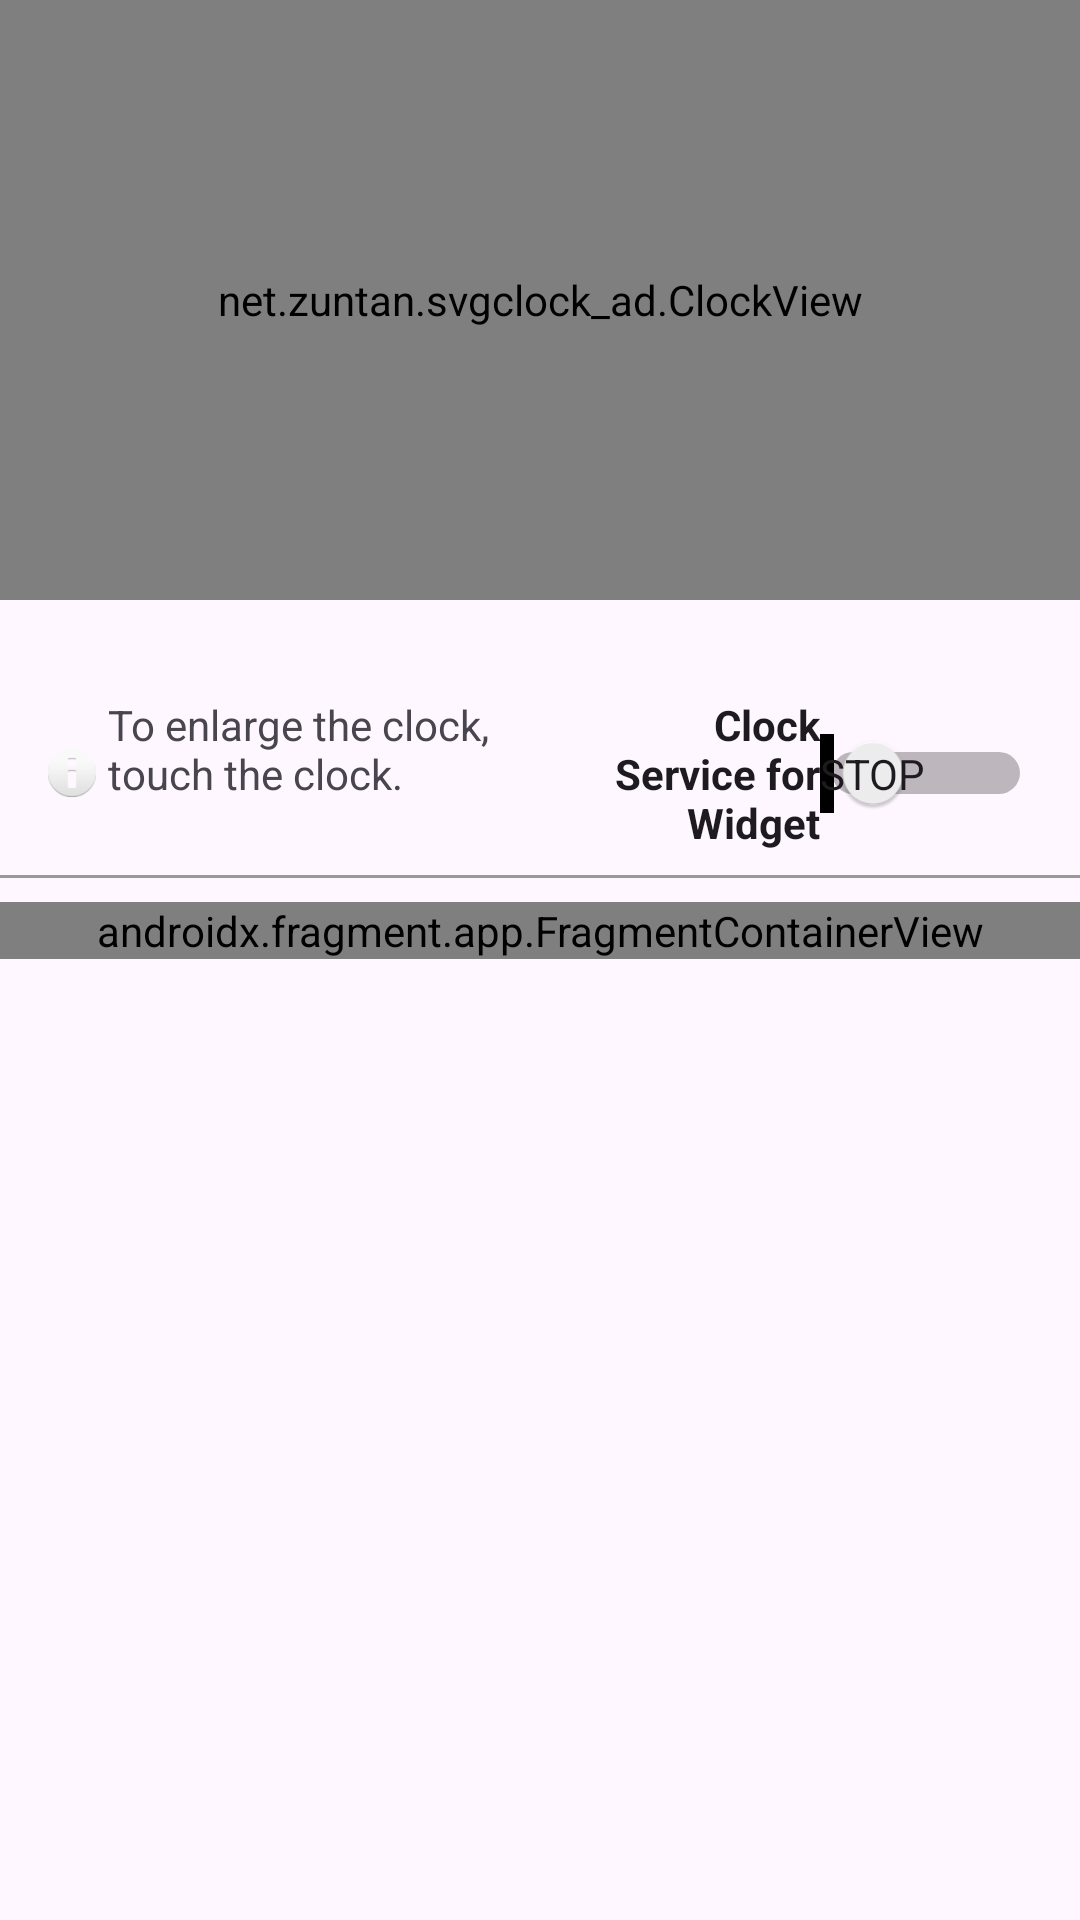

Where icons sit on this 1080 x 1920 app screen, as detection(x1, y1, x2, y2):
info: detection(48, 758, 96, 797)
